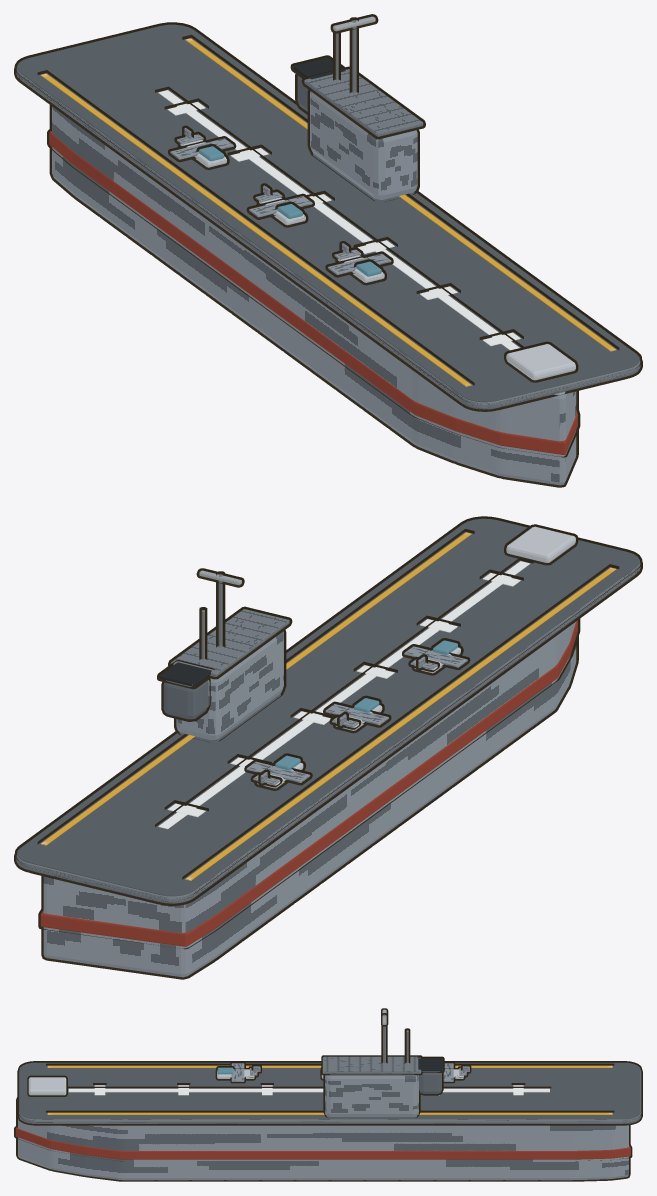
Rendered from carrier.glb.
3 renders of one model, top to bottom at view 1: azimuth 30°, elevation 25°; view 2: azimuth 150°, elevation 25°; view 3: azimuth 270°, elevation 25°, orthographic. The views are drawn at different scales.
Parts seen in each view (by area): view 1: Carrier; view 2: Carrier; view 3: Carrier.
Boxes of the visible parts, x1,y1,x2,y2 form: Carrier: (14,14,642,487); Carrier: (14,516,642,979); Carrier: (14,1008,642,1181).
Bounding box in the file's own units: 0.4284 × 0.5687 × 1.94.
2 materials, 1 textured.
